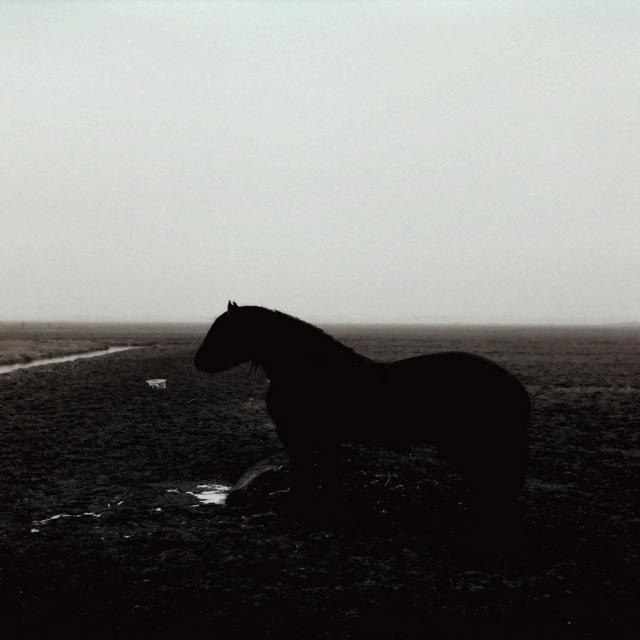Horse: (195, 298, 536, 516)
